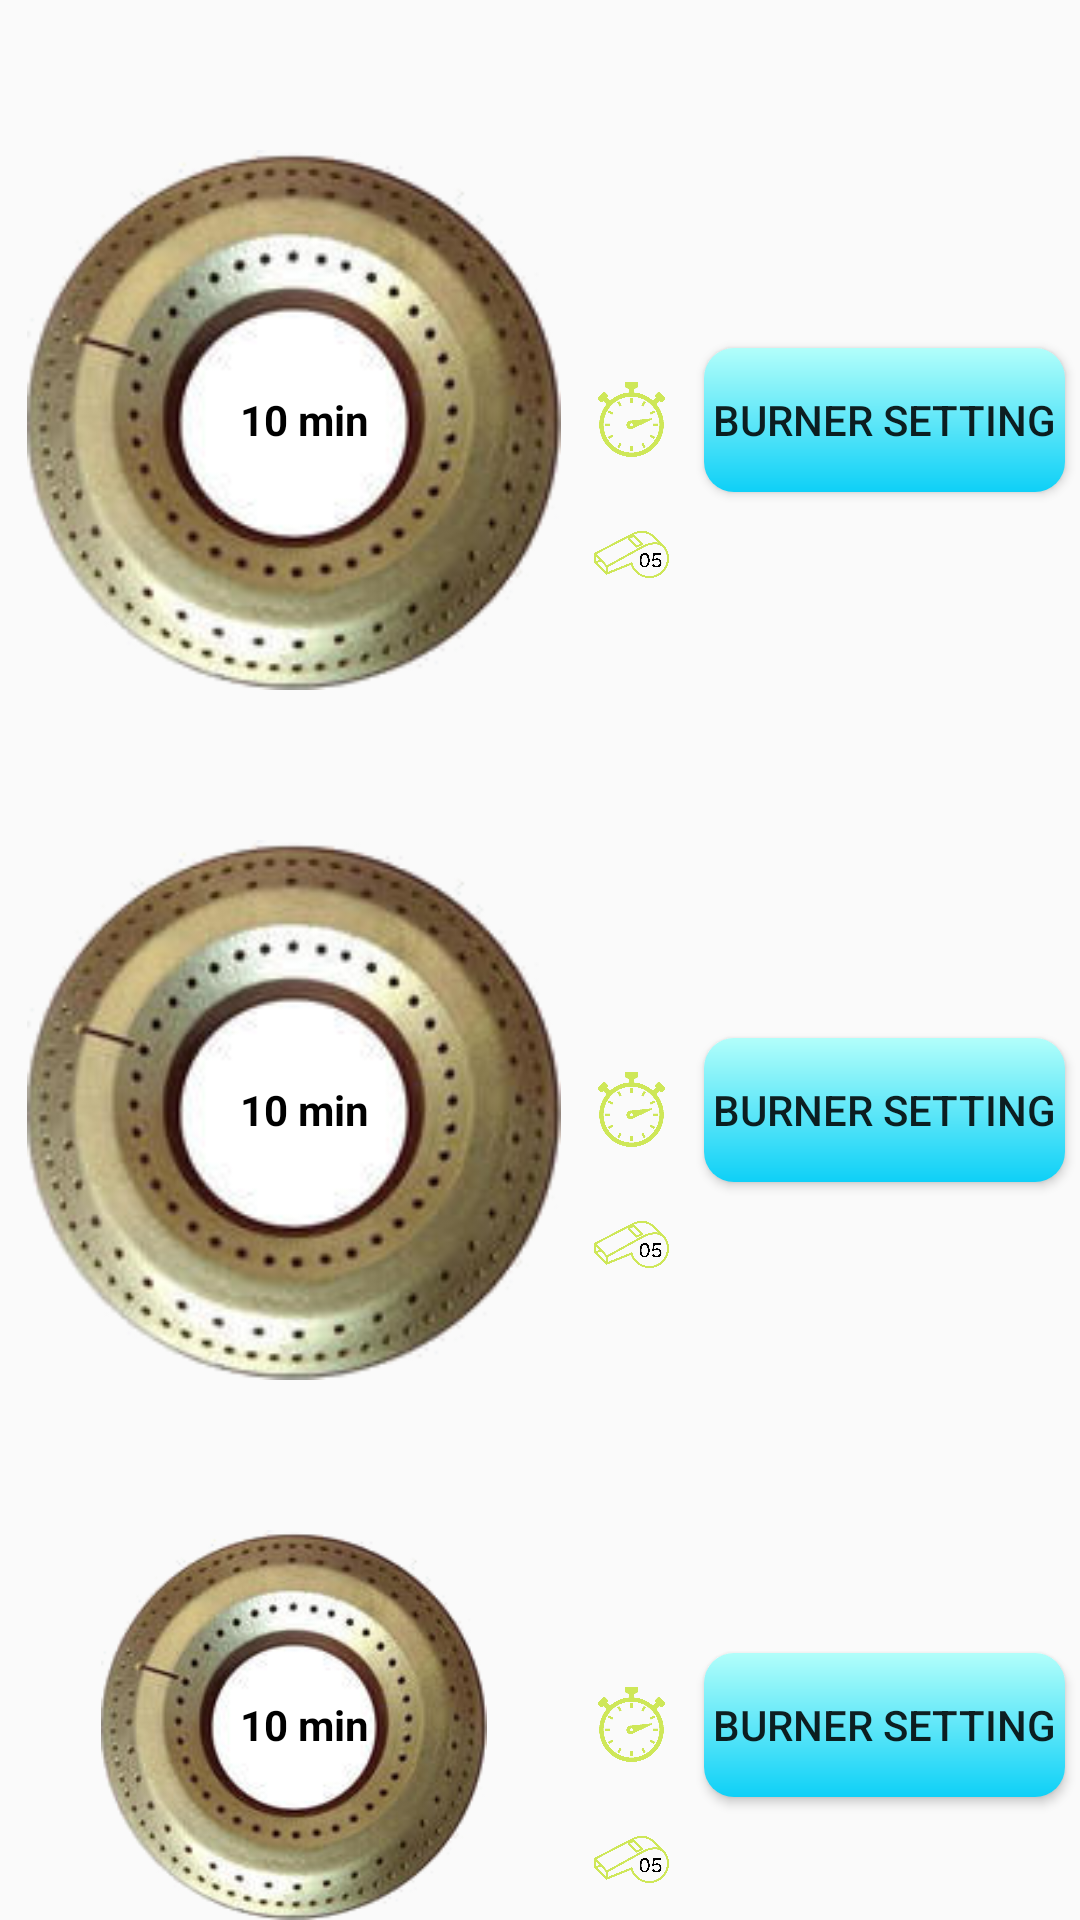

Icons on this 1080×1920 Android screen, each with the point to tap as (x=x, y=y):
timer present: (x=631, y=419), (x=631, y=1109), (x=631, y=1724)
whistle present: (x=631, y=554), (x=631, y=1244), (x=631, y=1859)
